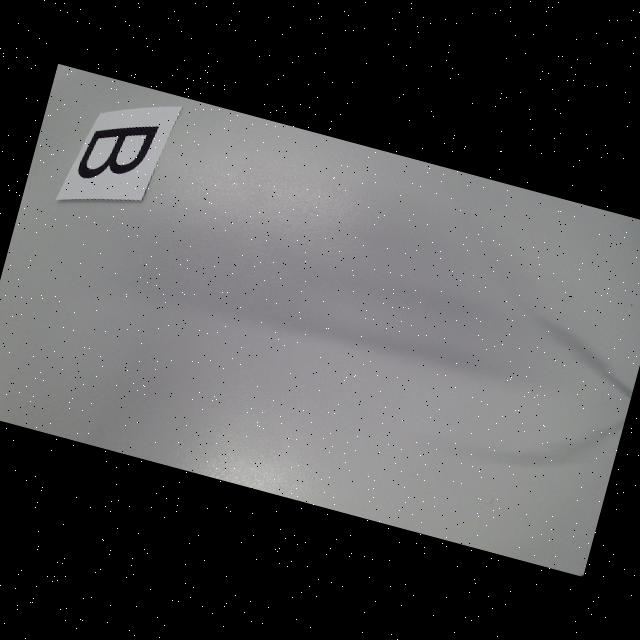FAKE: (75, 109, 158, 192)
